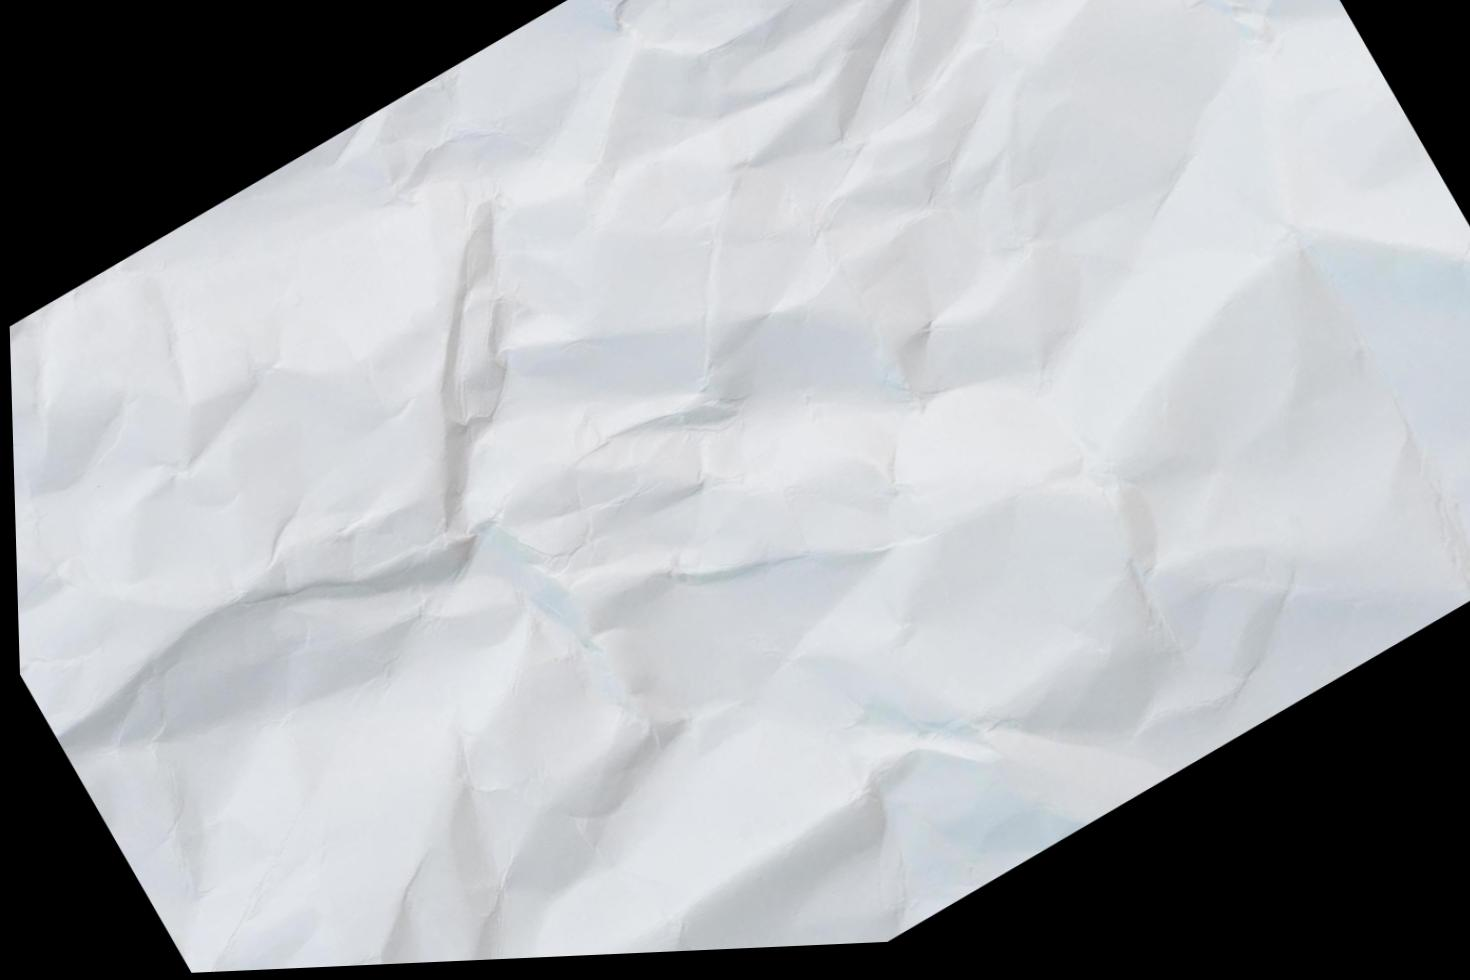paper: (0, 0, 1469, 972)
